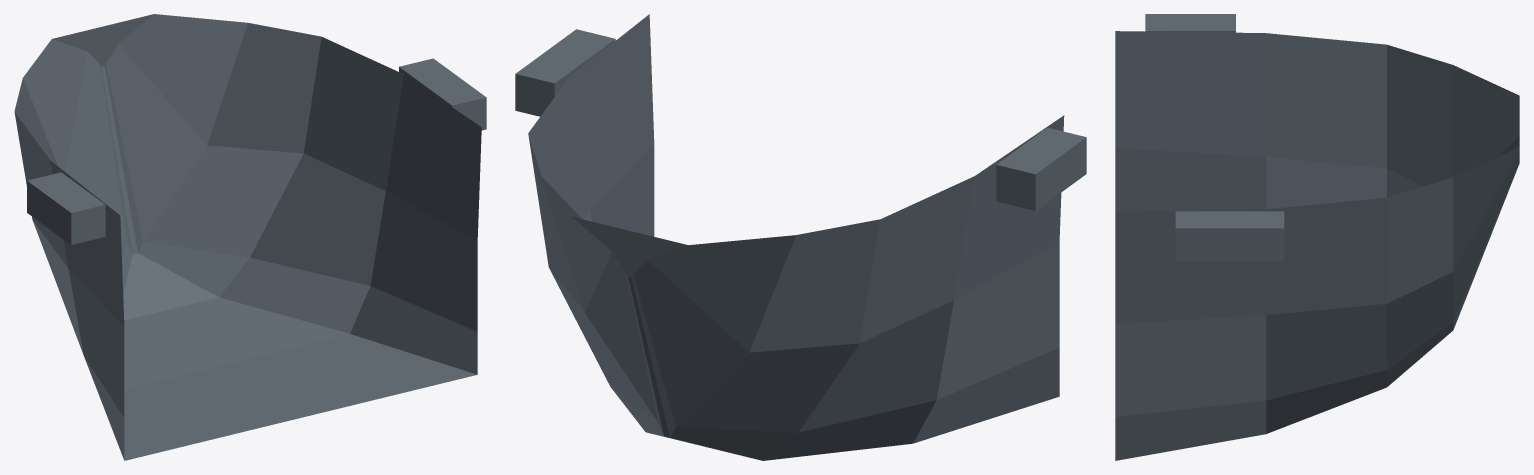
The model's file is env_fallow_bow.fbx.
3 views of the same model, side by side, from view 1: azimuth 30°, elevation 25°; view 2: azimuth 150°, elevation 25°; view 3: azimuth 270°, elevation 25° (orthographic). The views are drawn at different scales.
Parts seen in each view (by area): view 1: env_fallow_bow; view 2: env_fallow_bow; view 3: env_fallow_bow.
Boxes of the visible parts, <box> form: env_fallow_bow: <box>14,14,486,460</box>; env_fallow_bow: <box>515,14,1086,460</box>; env_fallow_bow: <box>1115,14,1519,460</box>.
Bounding box in the file's own units: 8400 × 4600 × 6700.
